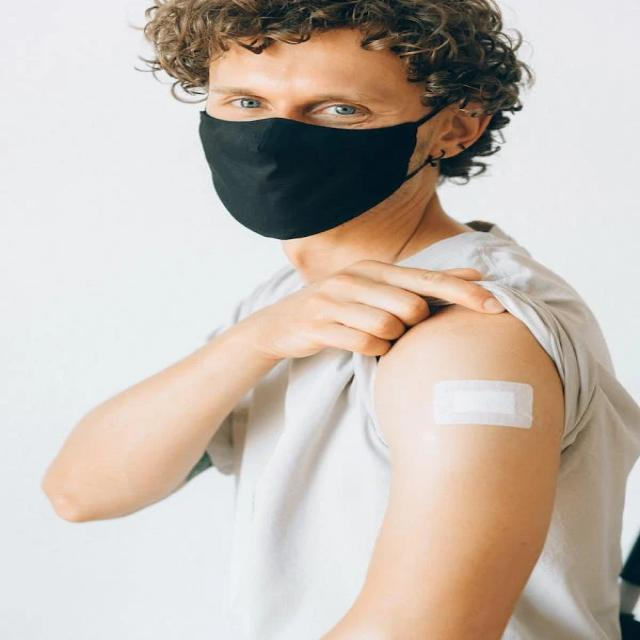mask: (154, 23, 516, 259)
